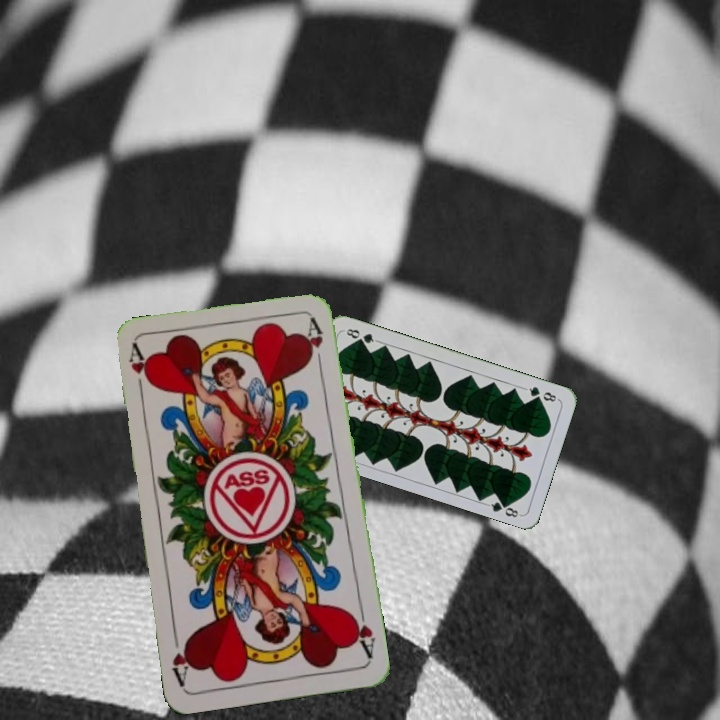G8: (521, 382, 561, 404)
HA: (347, 603, 378, 661), (124, 342, 154, 401)
